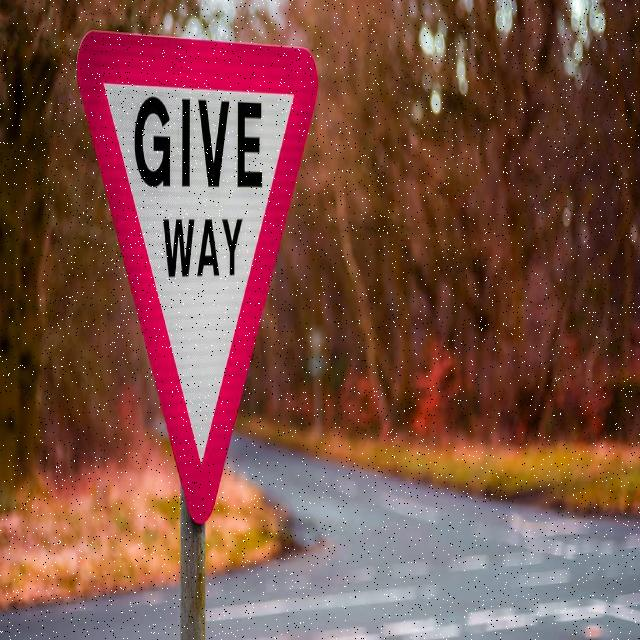giveway: (74, 32, 321, 523)
